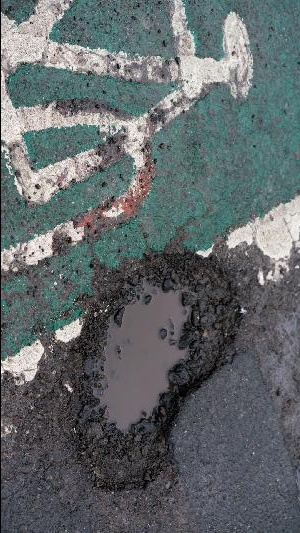pothole: (62, 245, 243, 493)
